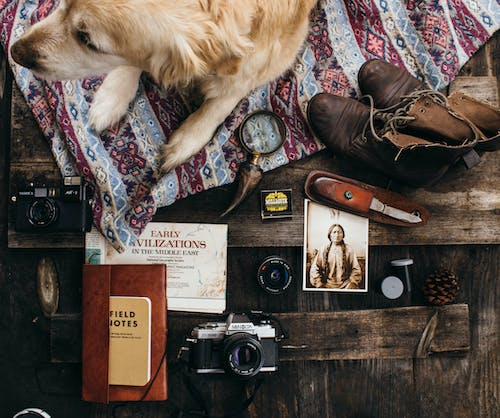knife: (370, 197, 424, 223)
